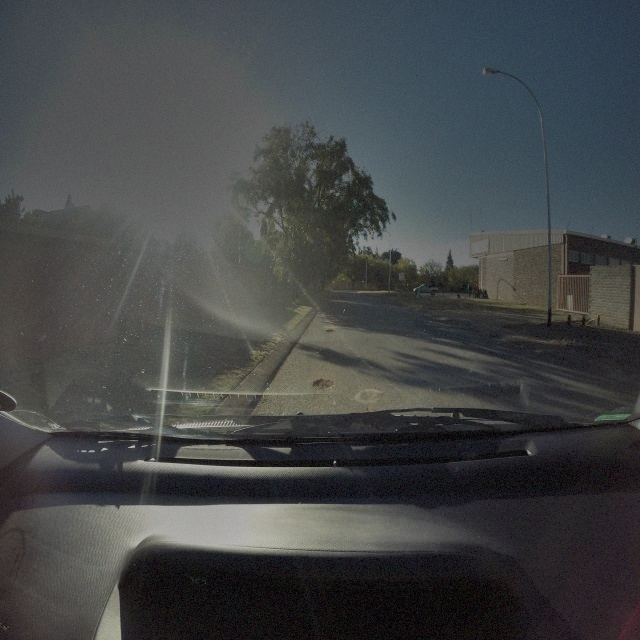pothole: (310, 374, 336, 394), (325, 327, 337, 335)
